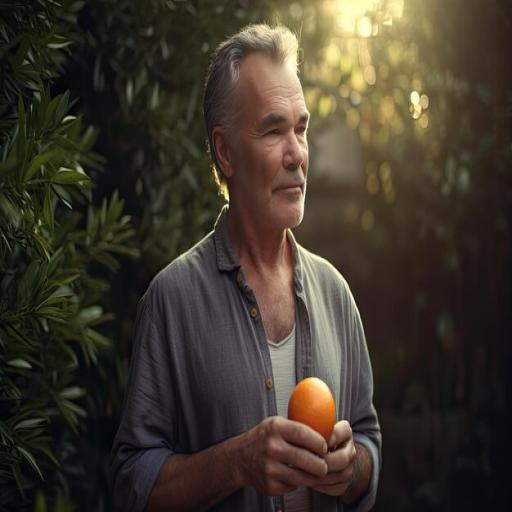orange: (288, 377, 336, 442)
